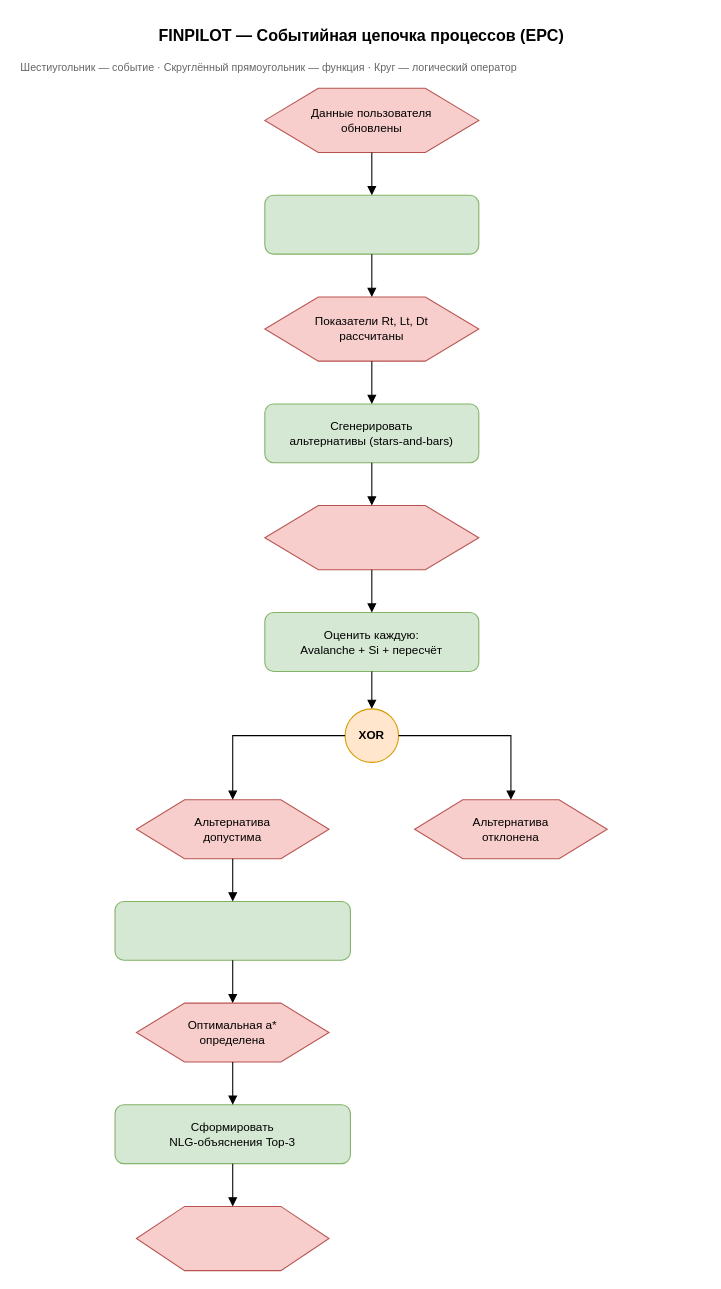
The diagram is 721 pixels wide and 1289 high, and some of its shapes have lost their labels. The centre of each missing label's shape, as x and y in pixels:
"66 альтернатив сформировано" belongs at pixel 371 537.
"Запустить расчёт плана (run_planning)" belongs at pixel 371 224.
"Ранжировать допустимые по SAW (U → max)" belongs at pixel 232 930.
"Рекомендация готова и показана" belongs at pixel 232 1238.
